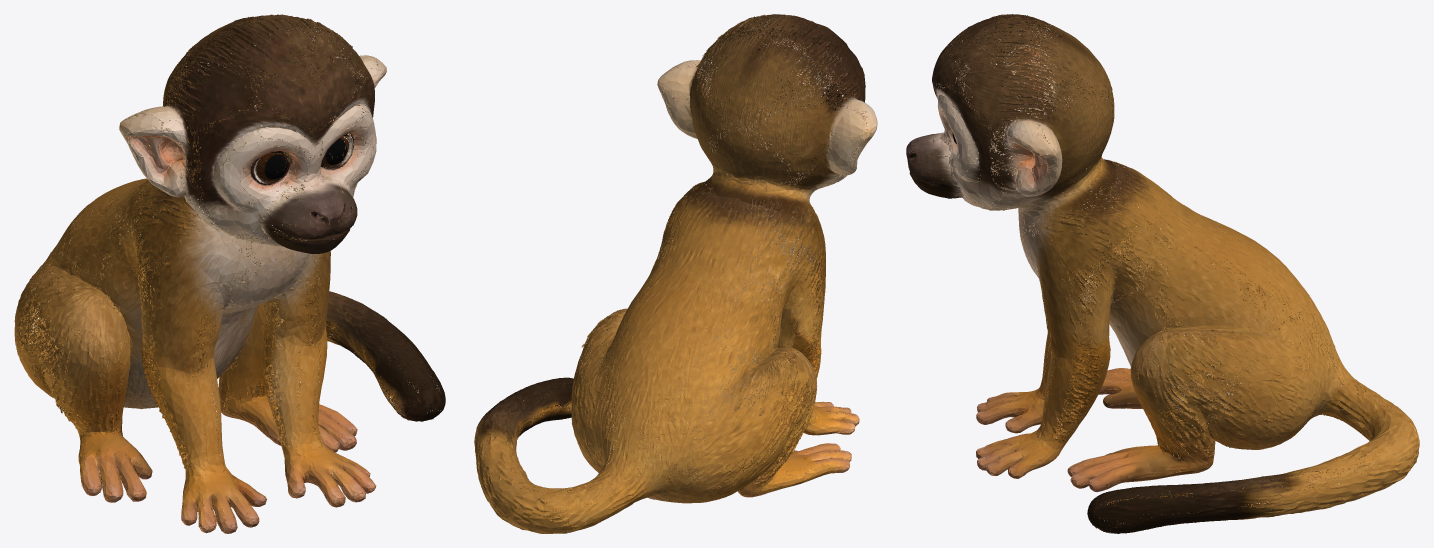
Rendered from mono araña.fbx.
3 views of the same model, side by side, from view 1: azimuth 30°, elevation 25°; view 2: azimuth 150°, elevation 25°; view 3: azimuth 270°, elevation 25° (orthographic). The views are drawn at different scales.
Parts seen in each view (by area): view 1: mono araña; view 2: mono araña; view 3: mono araña.
Part boxes in pixels (bbox=[...]): mono araña: bbox=[14, 14, 445, 533]; mono araña: bbox=[474, 14, 877, 533]; mono araña: bbox=[906, 14, 1419, 533].
Bounding box in the file's own units: 1.43 × 1.8 × 1.99.
Materials: 1 (1 with a texture image).
